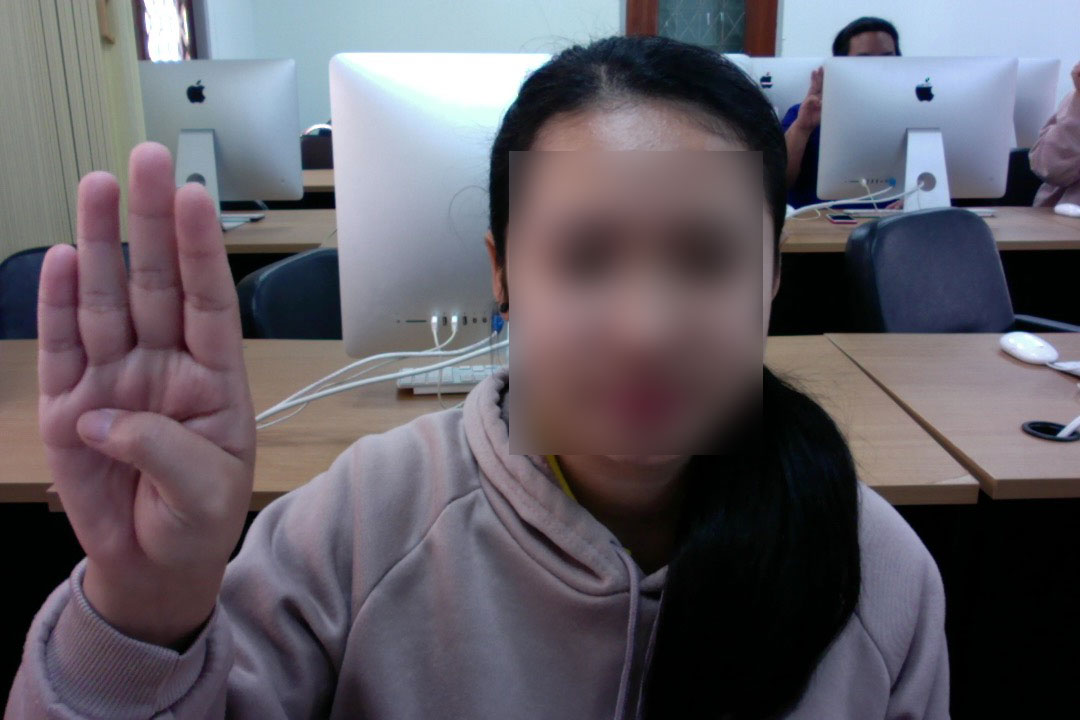bor: (20, 132, 265, 644)
